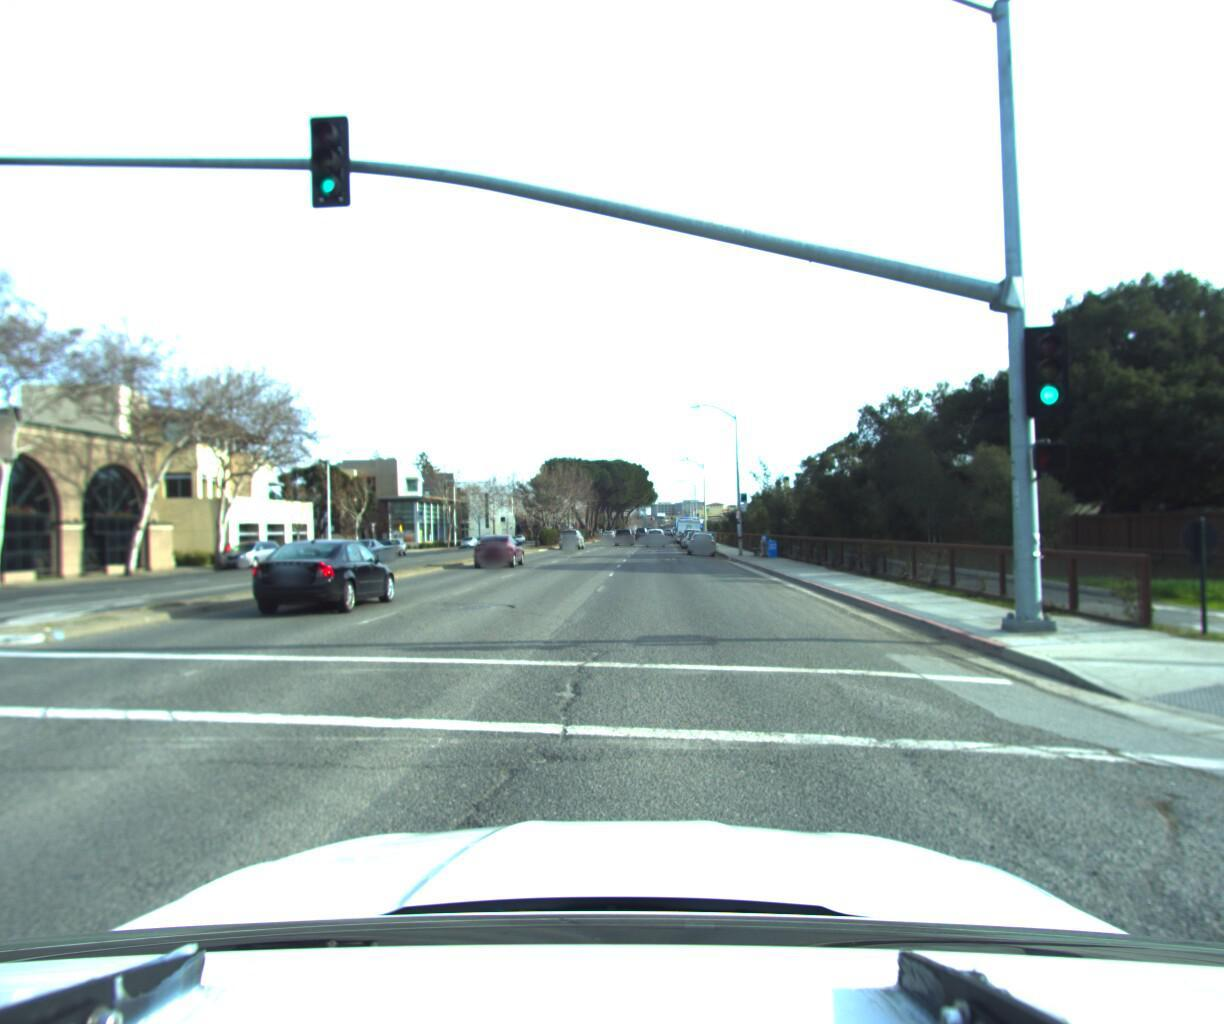car: (246, 533, 404, 620), (219, 539, 289, 573), (472, 528, 527, 565), (330, 536, 390, 563), (690, 525, 720, 551), (686, 528, 716, 554), (557, 526, 586, 549), (646, 525, 667, 545), (0, 550, 7, 609), (616, 525, 636, 544)
